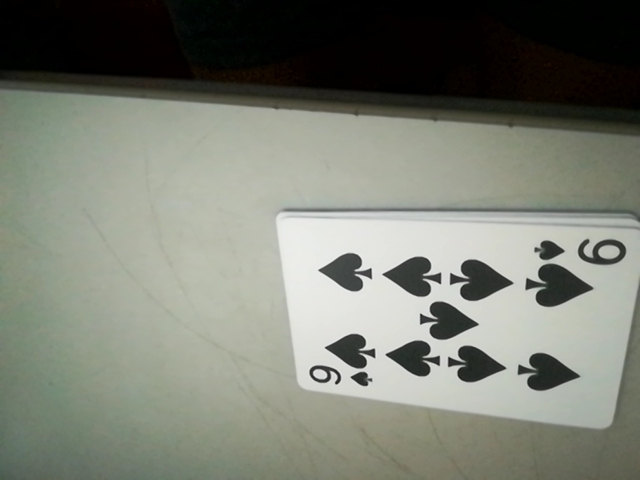ht 9: (531, 231, 635, 270), (302, 365, 374, 391)
